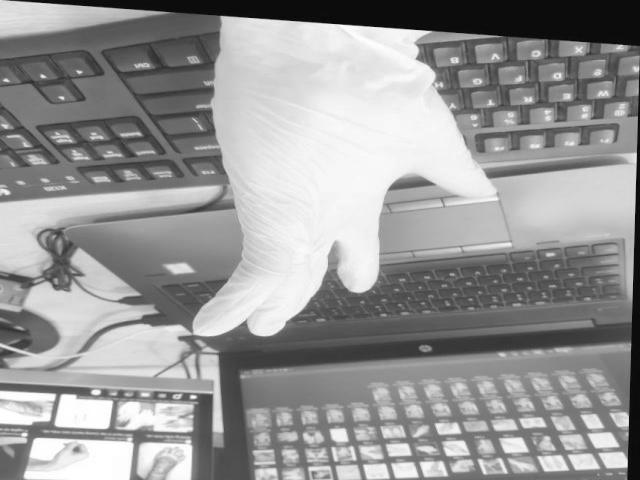gloved: (200, 12, 497, 344)
